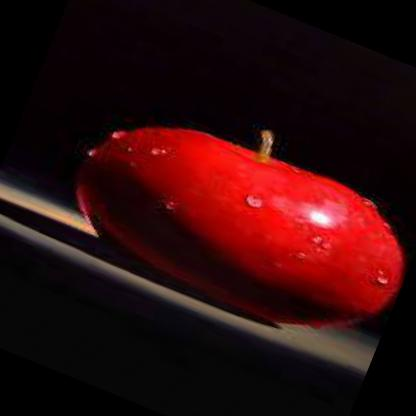apple: (50, 65, 416, 365)
